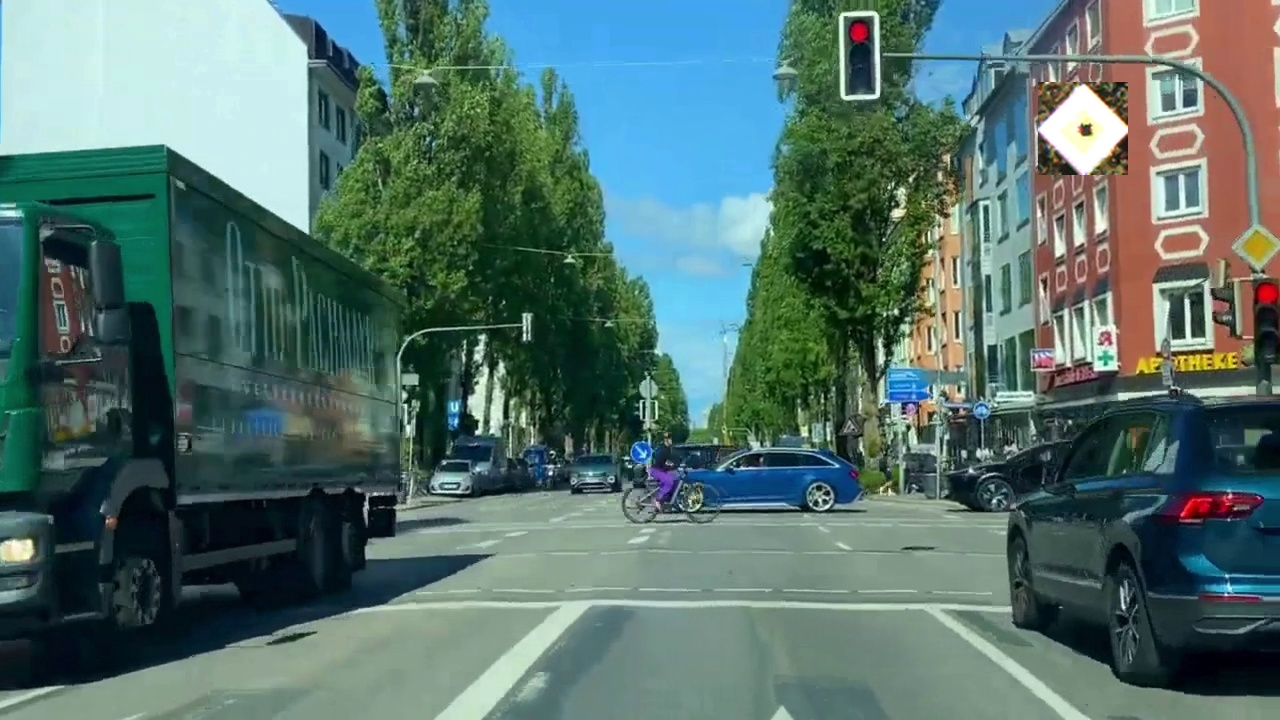Priority road: (1038, 82, 1128, 175)
